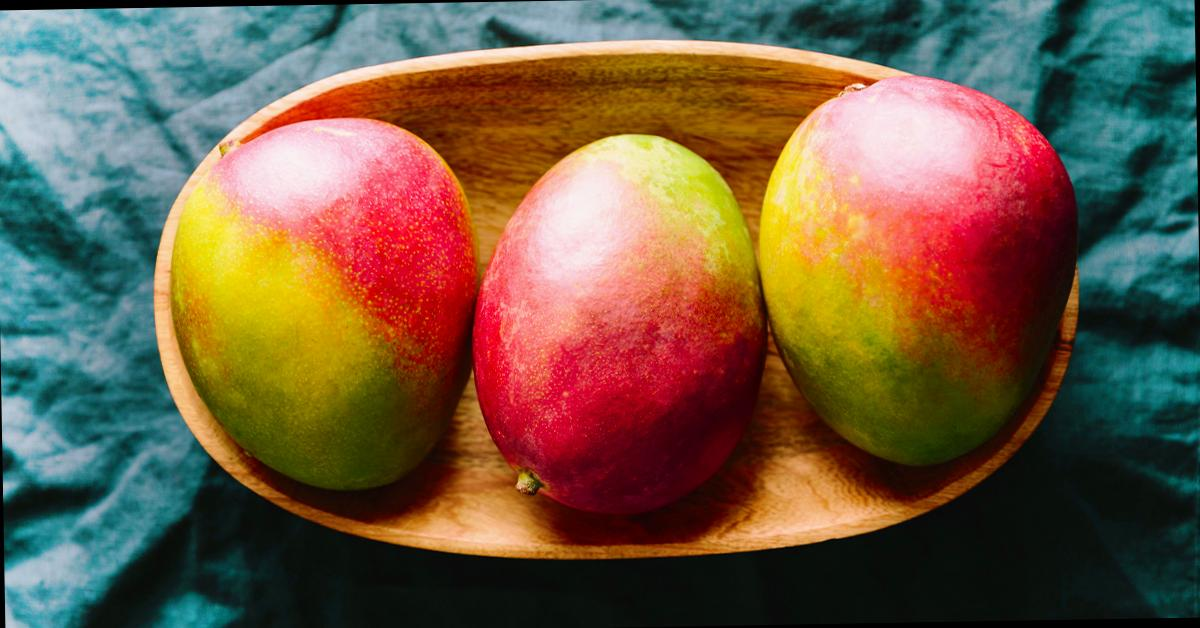Mango Unripe: (761, 68, 1083, 506), (473, 89, 779, 547), (166, 110, 502, 516)
